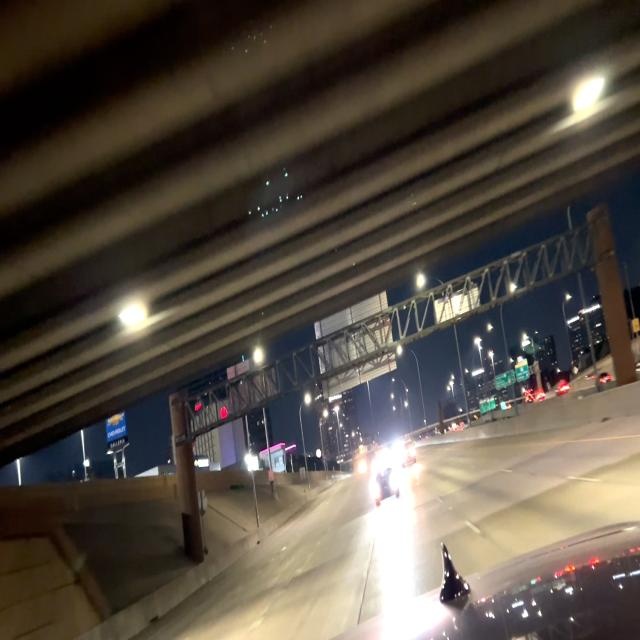back-of-sign: (315, 290, 397, 401), (223, 355, 280, 412), (435, 282, 483, 325)
